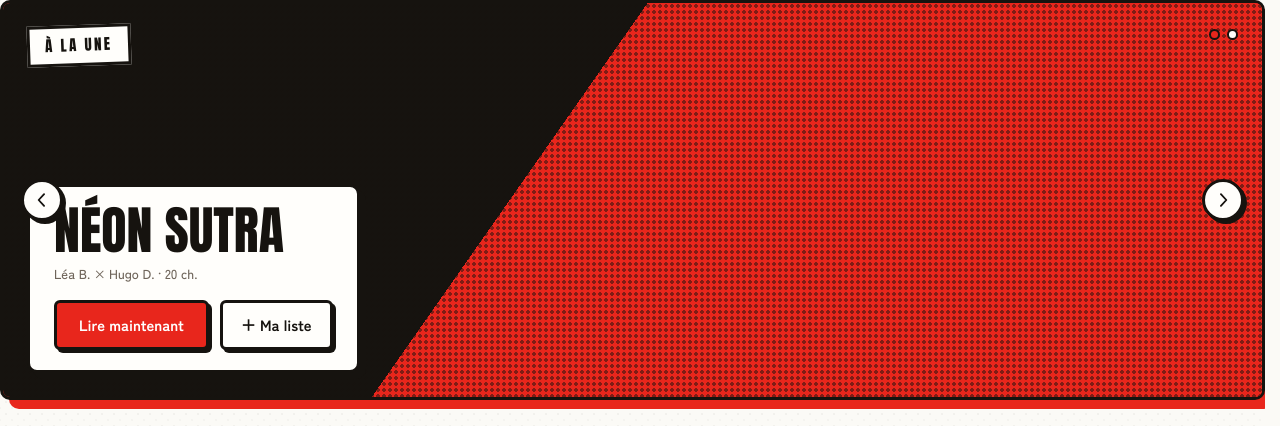
Test: HeroCarousel › arrows have French aria-labels and are keyboard operable
Expected: the button named "diapositive précédente" is shown, x1=21 y1=179 x2=63 y2=221
Click the button named "diapositive suivante": (1223, 200) x1=1202 y1=179 x2=1244 y2=221
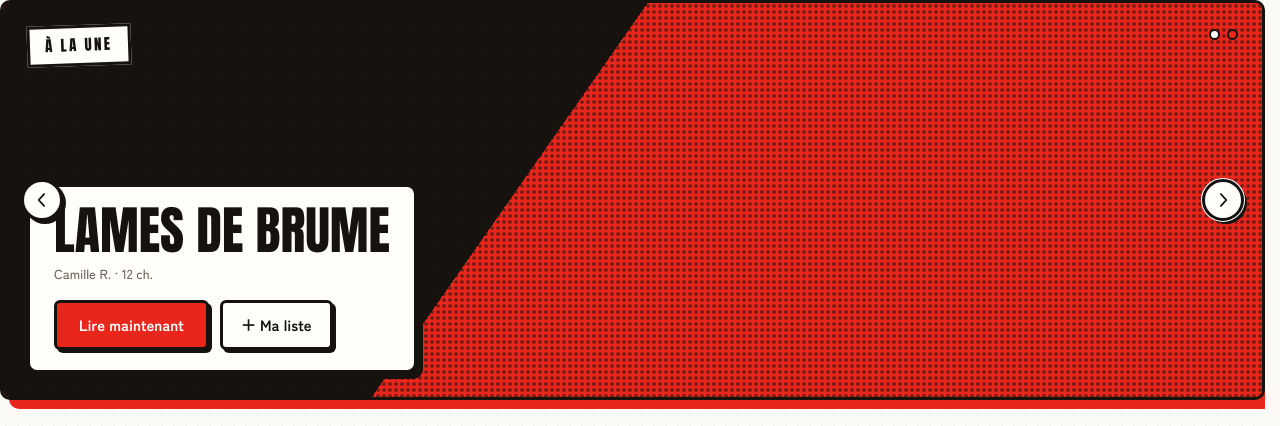
Result: the text with test id "hero-slide-title" reads "Lames de Brume" at x1=54 y1=191 x2=390 y2=269
